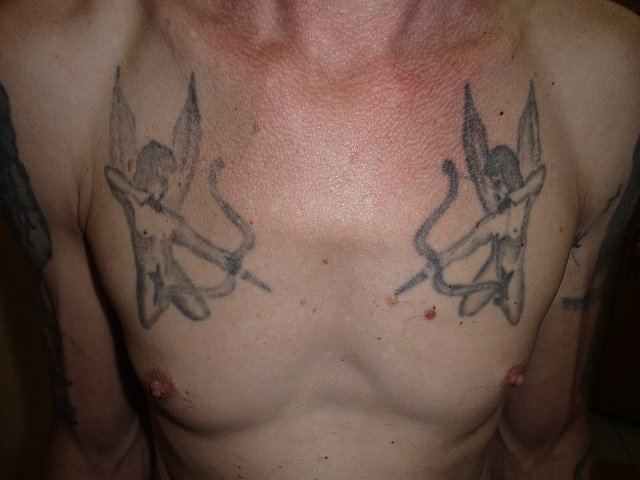tatu1_angel: (384, 68, 550, 343), (100, 71, 267, 333)
